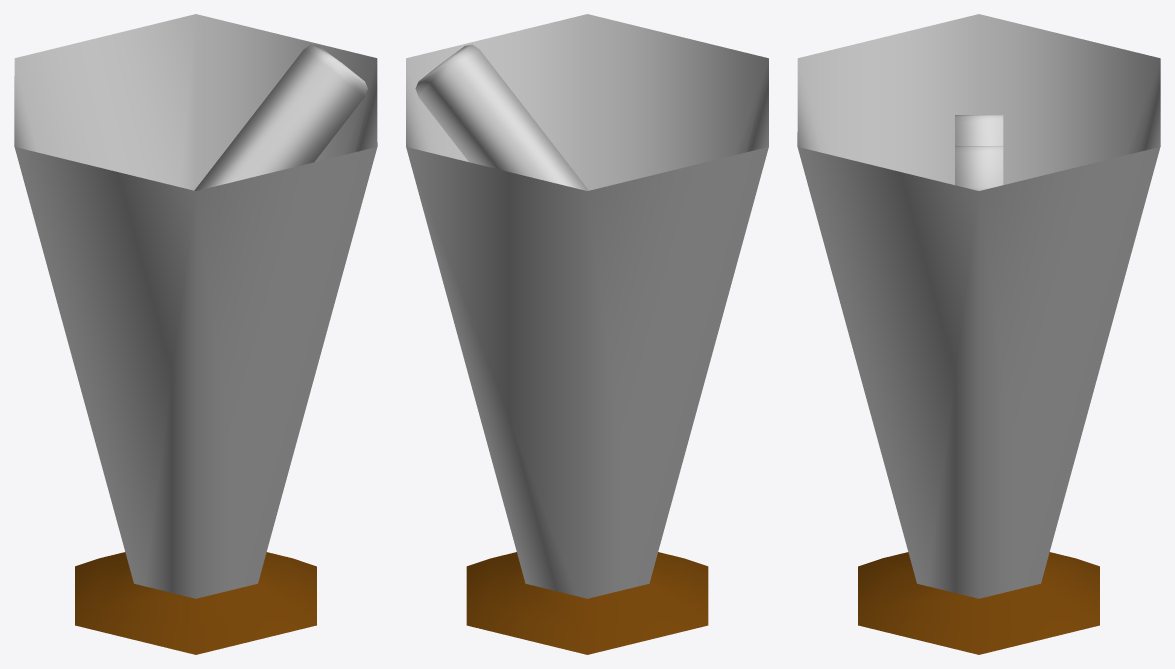
File: levelMachine_checkpoint_beacon1.dae
3 views of the same model, side by side, from view 1: azimuth 30°, elevation 25°; view 2: azimuth 150°, elevation 25°; view 3: azimuth 270°, elevation 25° (orthographic).
Parts seen in each view (by area): view 1: levelMachine_checkpoint_glow1, levelMachine_checkpoint_beacon1, levelMachine_checkpoint_checkmark1; view 2: levelMachine_checkpoint_glow1, levelMachine_checkpoint_beacon1, levelMachine_checkpoint_checkmark1; view 3: levelMachine_checkpoint_glow1, levelMachine_checkpoint_beacon1, levelMachine_checkpoint_checkmark1.
Boxes of the visible parts, bbox=[...] form: levelMachine_checkpoint_glow1: bbox=[14, 14, 377, 598]; levelMachine_checkpoint_beacon1: bbox=[75, 552, 316, 654]; levelMachine_checkpoint_checkmark1: bbox=[194, 44, 367, 190]; levelMachine_checkpoint_glow1: bbox=[406, 14, 768, 598]; levelMachine_checkpoint_beacon1: bbox=[466, 552, 708, 654]; levelMachine_checkpoint_checkmark1: bbox=[415, 44, 588, 190]; levelMachine_checkpoint_glow1: bbox=[797, 14, 1160, 598]; levelMachine_checkpoint_beacon1: bbox=[858, 552, 1099, 654]; levelMachine_checkpoint_checkmark1: bbox=[955, 115, 1003, 190].
Bounding box in the file's own units: 1.73 × 1.5 × 2.33.
